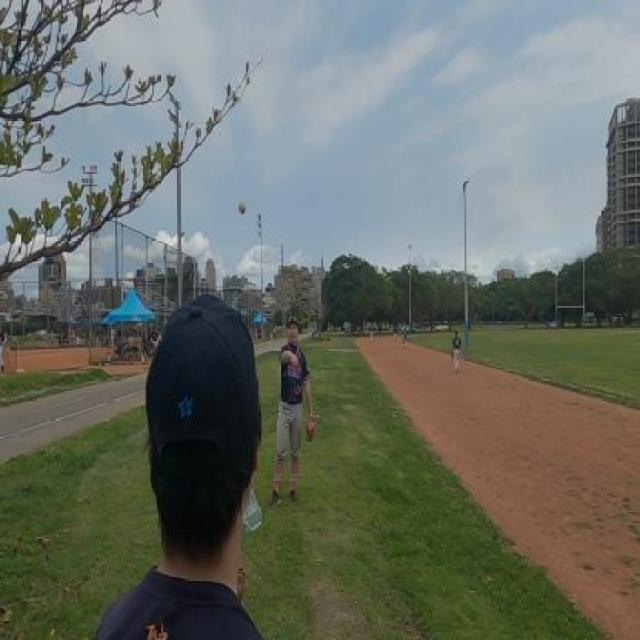baseball: (239, 200, 246, 214)
